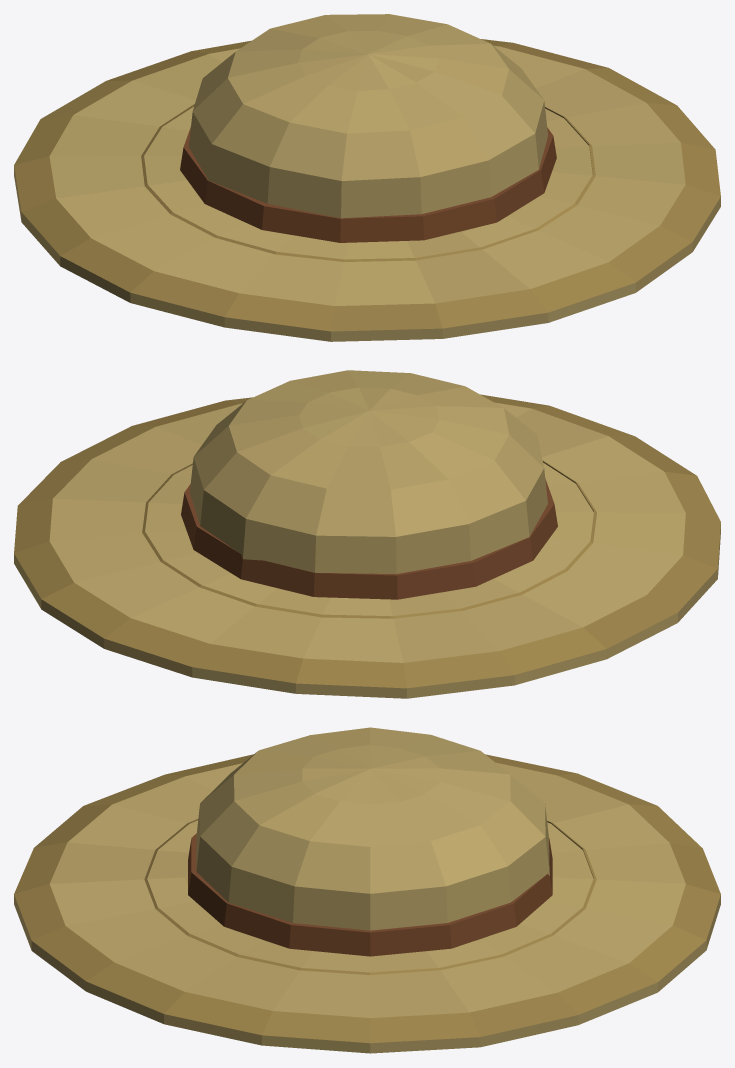
The model's file is wear_straw_hat.glb.
3 views of the same model, one above another, from view 1: azimuth 30°, elevation 25°; view 2: azimuth 150°, elevation 25°; view 3: azimuth 270°, elevation 25° (orthographic).
Visible parts, largest first — view 1: wear_straw_hat; view 2: wear_straw_hat; view 3: wear_straw_hat.
Boxes of the visible parts, x1,y1,x2,y2 form: wear_straw_hat: (14,14,720,341); wear_straw_hat: (14,370,720,698); wear_straw_hat: (14,727,720,1053).
Bounding box in the file's own units: 0.9989 × 0.212 × 1.
